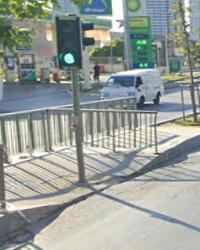greenlight: (56, 15, 81, 68)
